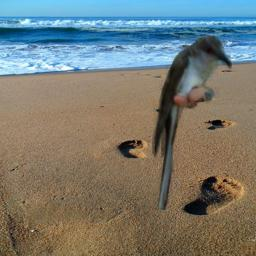Cuckoo: (152, 35, 232, 210)
